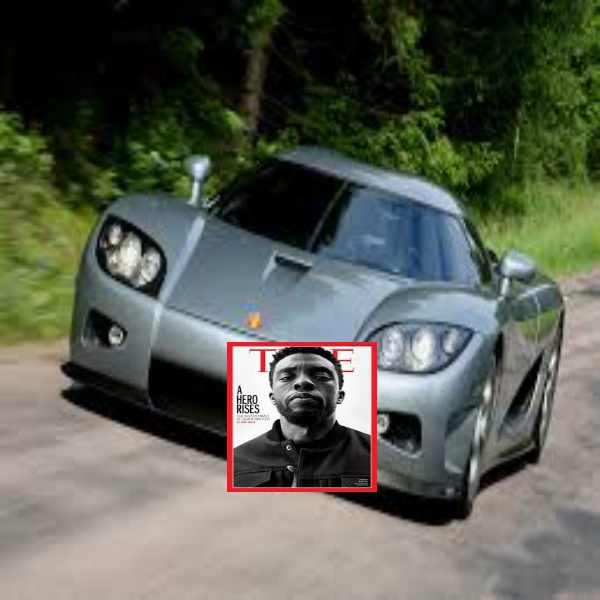time_cover: (226, 337, 375, 493)
